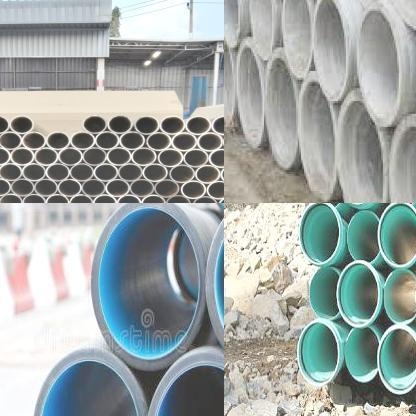pipe: (90, 203, 206, 370), (32, 346, 146, 416), (354, 1, 408, 129), (335, 90, 389, 203), (294, 79, 339, 202), (144, 350, 224, 416), (261, 48, 298, 171), (310, 0, 351, 102), (236, 45, 266, 149), (280, 0, 316, 81), (336, 262, 380, 328), (297, 320, 341, 386), (378, 324, 416, 394), (299, 203, 340, 265), (377, 203, 416, 268), (387, 118, 416, 203), (345, 326, 380, 383), (247, 0, 278, 62), (383, 268, 416, 324), (348, 209, 379, 262), (310, 267, 340, 320), (224, 30, 238, 130), (224, 0, 242, 45), (185, 115, 212, 136), (168, 164, 196, 184), (157, 147, 183, 168), (119, 130, 145, 151), (94, 130, 119, 151), (171, 132, 197, 152), (183, 148, 209, 168), (197, 132, 223, 152), (146, 132, 172, 152), (106, 146, 132, 166), (107, 114, 132, 134), (105, 178, 130, 198), (81, 178, 106, 198), (57, 178, 82, 198), (9, 114, 34, 134), (58, 146, 83, 166), (160, 115, 185, 135), (82, 146, 107, 166), (82, 114, 107, 134), (180, 180, 206, 199), (194, 165, 220, 184), (142, 163, 168, 182), (154, 179, 180, 198), (133, 116, 160, 134), (130, 178, 154, 198), (34, 146, 58, 166), (93, 163, 118, 182), (118, 163, 143, 182), (70, 131, 95, 150), (69, 163, 94, 182), (131, 148, 157, 166), (46, 131, 70, 150), (46, 162, 70, 181), (34, 178, 58, 197), (22, 162, 46, 181), (10, 147, 34, 166), (10, 178, 35, 196), (22, 132, 46, 150), (0, 130, 21, 150), (0, 162, 22, 181), (206, 180, 224, 199), (209, 148, 224, 168), (211, 115, 224, 135), (22, 193, 46, 203), (165, 194, 191, 203), (0, 193, 23, 203), (141, 194, 166, 203), (92, 194, 117, 203), (116, 194, 141, 203), (45, 194, 69, 203), (69, 194, 93, 203), (192, 195, 217, 203), (0, 146, 10, 165), (0, 177, 10, 196), (0, 114, 9, 134)
